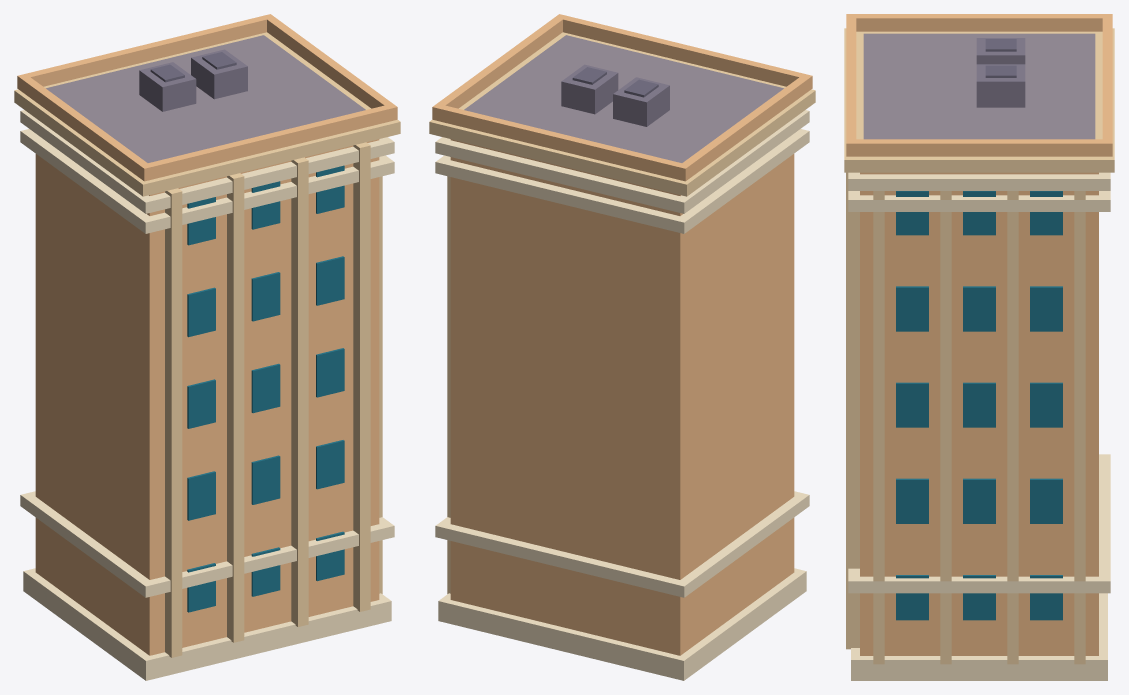
File: Building_Orange_Office_Medium.glb
3 renders of one model, left to right at view 1: azimuth 30°, elevation 25°; view 2: azimuth 150°, elevation 25°; view 3: azimuth 270°, elevation 25°, orthographic. The views are drawn at different scales.
Visible parts, largest first — view 1: Building_Orange_Office_Medium; view 2: Building_Orange_Office_Medium; view 3: Building_Orange_Office_Medium.
Part boxes in pixels (bbox=[...]): Building_Orange_Office_Medium: bbox=[14, 14, 400, 680]; Building_Orange_Office_Medium: bbox=[429, 14, 815, 680]; Building_Orange_Office_Medium: bbox=[844, 14, 1114, 680].
Size of the model in its own units: 4.04 by 7.99 by 3.5.
